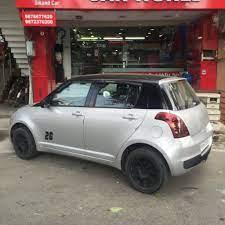Hatchback: (7, 73, 217, 196)
